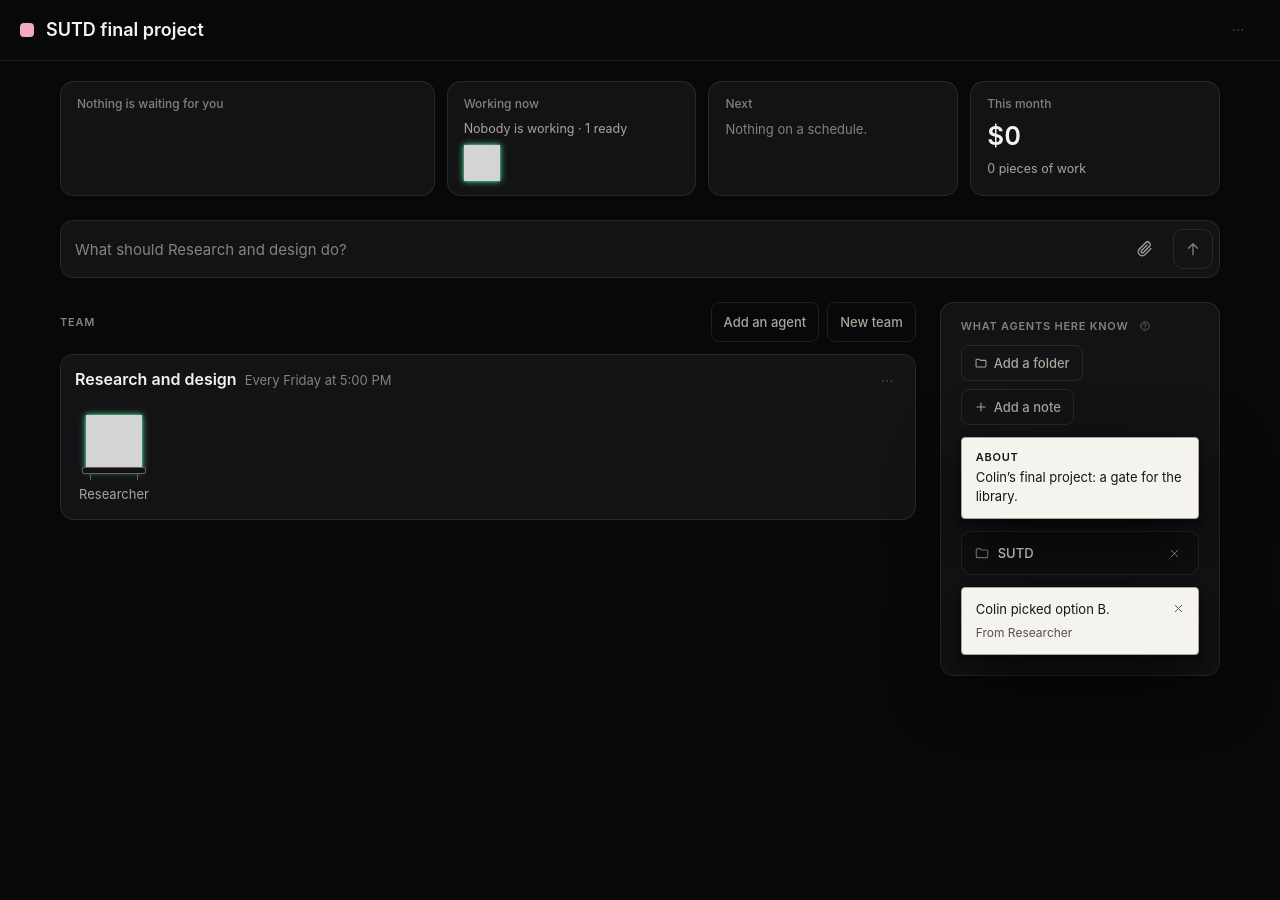
Test: a project’s room (ADR 0097) › holds on its wall what every agent here knows, and its teams at their desks
Check: the heading "SUTD final project" is shown, box [46, 19, 204, 40]
Check: the button with aria-label "About. Change it" shows "Colin’s final project: a gate for the library.", box [961, 437, 1199, 519]
Note: The wall's "?" says what it is, and it stays here.
Click the button named "About What agents here know" at (1145,326), box [1136, 317, 1154, 335]
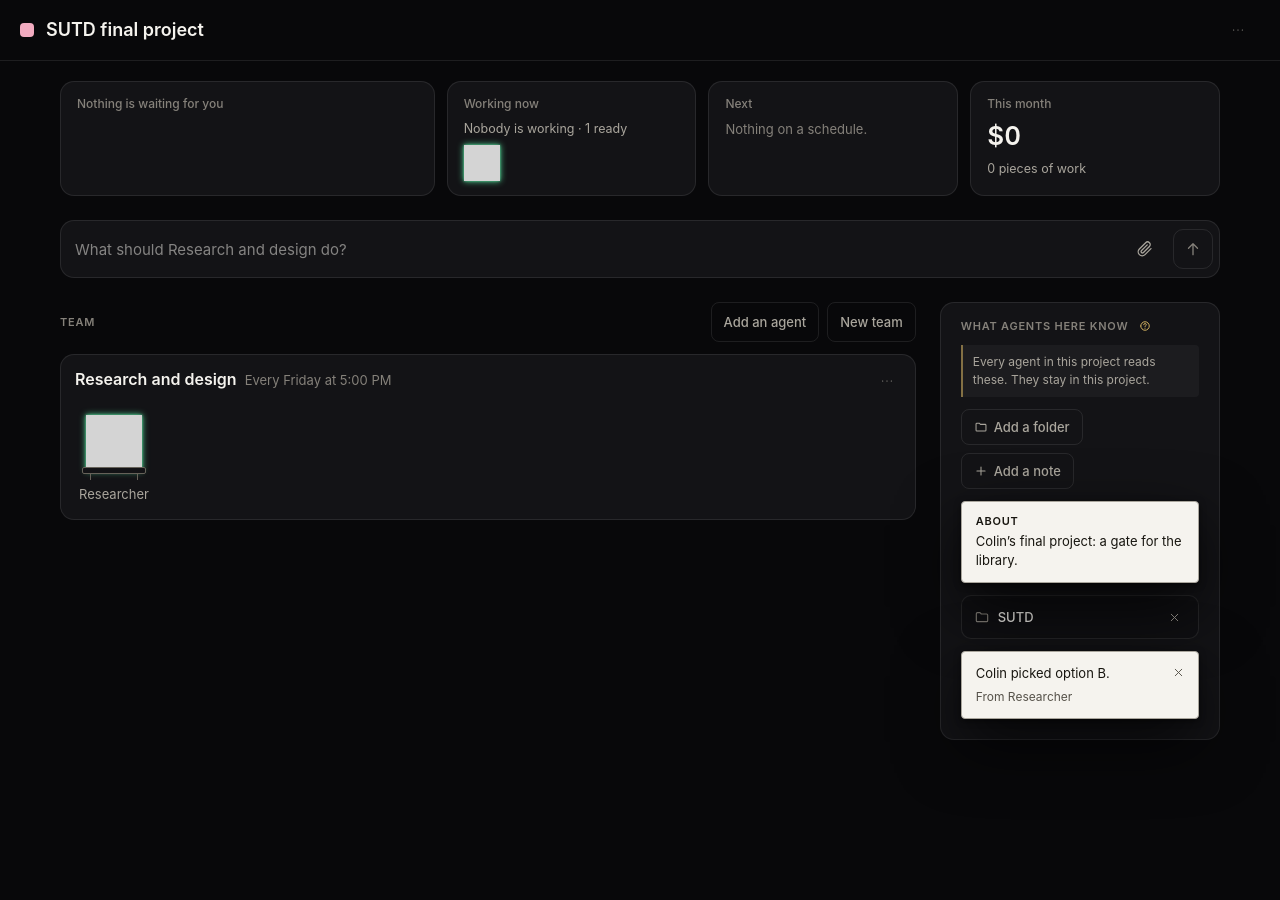
Check: the link "Research and design Every Friday at 5:00 PM" is shown, box [75, 369, 391, 389]
Check: the text "Every agent in this project reads these. They stay in this project." is shown, box [961, 345, 1199, 397]
